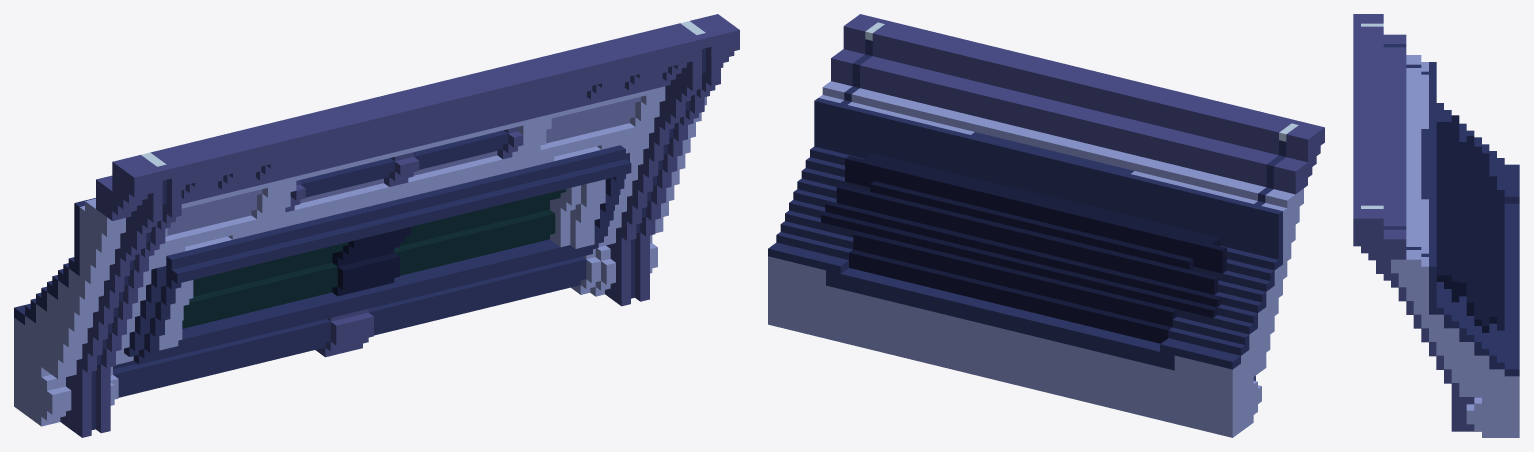
The model's file is wall up.obj.
3 views of the same model, side by side, from view 1: azimuth 30°, elevation 25°; view 2: azimuth 150°, elevation 25°; view 3: azimuth 270°, elevation 25° (orthographic). The views are drawn at different scales.
Size of the model in its own units: 6.4 by 3.2 by 2.2.
1 material, 1 textured.
